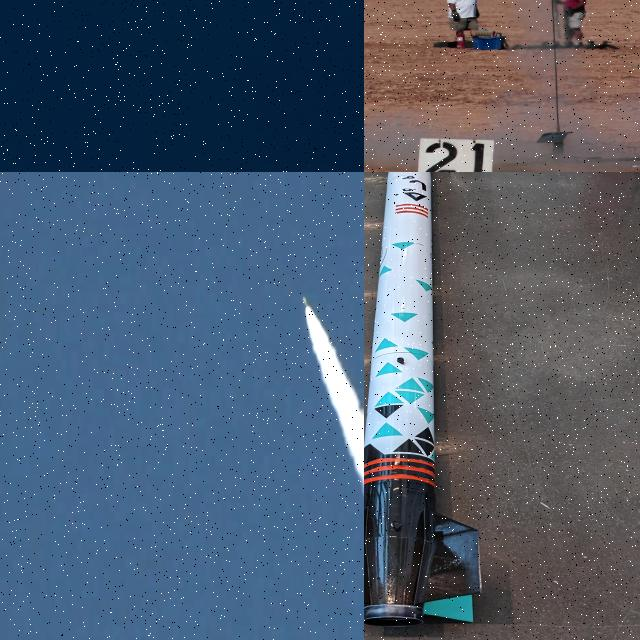Rocket: (364, 172, 484, 628), (302, 294, 310, 308)
